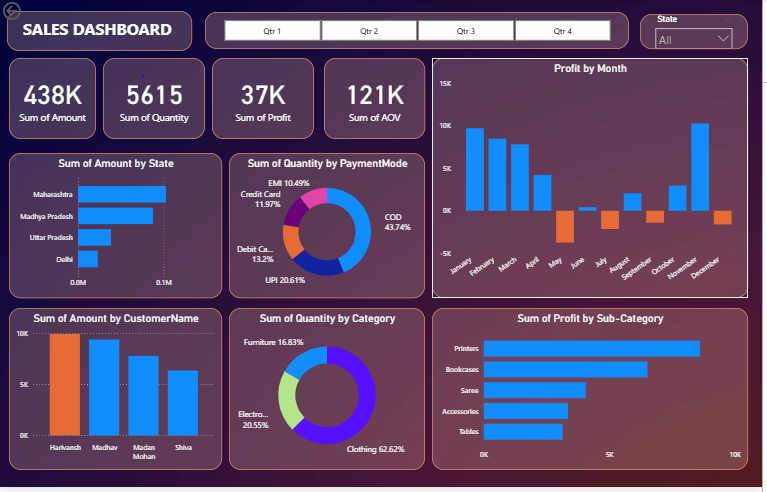

What the dashboard file says about the page in this screenshot:
{"tool":"powerbi","page":{"name":"Page 1","canvas":[1280,820],"ordinal":0},"visuals":[{"type":"textbox","box":[11.8,20.2,310.8,67.2],"z":0},{"type":"columnChart","title":"Profit by Month","fields":{"Category":["Orders.Order Date.Variation.Date Hierarchy.Month"],"Y":["Sum(Details.Profit)"]},"box":[725.7,99.1,530.8,403.1],"z":1000},{"type":"barChart","fields":{"Category":["Details.Sub-Category"],"Y":["Sum(Details.Profit)"]},"box":[725.7,519.1,530.8,272.1],"z":2000},{"type":"donutChart","fields":{"Category":["Details.Category"],"Y":["Sum(Details.Quantity)"]},"box":[384.7,519.1,329.2,272.1],"z":3000},{"type":"donutChart","fields":{"Category":["Details.PaymentMode"],"Y":["Sum(Details.Quantity)"]},"box":[384.7,258.7,329.2,243.6],"z":4000},{"type":"card","fields":{"Values":["Sum(Details.Amount)"]},"box":[15.1,99.1,146.1,136.1],"z":5000},{"type":"actionButton","box":[0,0,100,40],"z":6000},{"type":"card","fields":{"Values":["Sum(Details.Quantity)"]},"box":[173,99.1,171.3,136.1],"z":7000},{"type":"card","fields":{"Values":["Sum(Details.Profit)"]},"box":[356.1,99.1,171.3,136.1],"z":8000},{"type":"card","fields":{"Values":["Sum(Details.AOV)"]},"box":[544.3,99.1,169.7,136.1],"z":9000},{"type":"barChart","fields":{"Category":["Orders.State"],"Y":["Sum(Details.Amount)"]},"box":[15.1,258.7,357.8,243.6],"z":10000},{"type":"slicer","fields":{"Values":["Orders.Order Date.Variation.Date Hierarchy.Quarter"]},"box":[344.4,21.8,712.2,62.2],"z":10001},{"type":"slicer","fields":{"Values":["Orders.State"]},"box":[1075.1,25.2,181.4,58.8],"z":10002},{"type":"columnChart","fields":{"Category":["Orders.CustomerName"],"Y":["Sum(Details.Amount)"]},"box":[15,519,358,272],"z":10003}]}

Visuals, with their boxes in screenshot pixels (x1, y1, x2, y2), scaled from the page's 1280x820 canvas onto the 767x492 screenshot:
textbox: x1=7 y1=12 x2=193 y2=52
"Profit by Month" columnChart: x1=435 y1=59 x2=753 y2=301
barChart - Details.Sub-Category x Sum(Details.Profit): x1=435 y1=311 x2=753 y2=475
donutChart - Details.Category x Sum(Details.Quantity): x1=231 y1=311 x2=428 y2=475
donutChart - Details.PaymentMode x Sum(Details.Quantity): x1=231 y1=155 x2=428 y2=301
card - Sum(Details.Amount): x1=9 y1=59 x2=97 y2=141
actionButton: x1=0 y1=0 x2=60 y2=24
card - Sum(Details.Quantity): x1=104 y1=59 x2=206 y2=141
card - Sum(Details.Profit): x1=213 y1=59 x2=316 y2=141
card - Sum(Details.AOV): x1=326 y1=59 x2=428 y2=141
barChart - Orders.State x Sum(Details.Amount): x1=9 y1=155 x2=223 y2=301
slicer - Orders.Order Date.Variation.Date Hierarchy.Quarter: x1=206 y1=13 x2=633 y2=50
slicer - Orders.State: x1=644 y1=15 x2=753 y2=50
columnChart - Orders.CustomerName x Sum(Details.Amount): x1=9 y1=311 x2=224 y2=475
